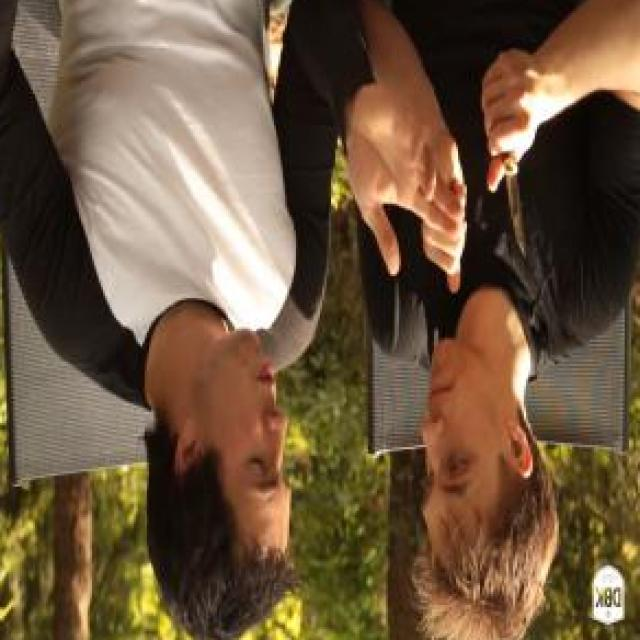knife: (475, 82, 539, 272)
